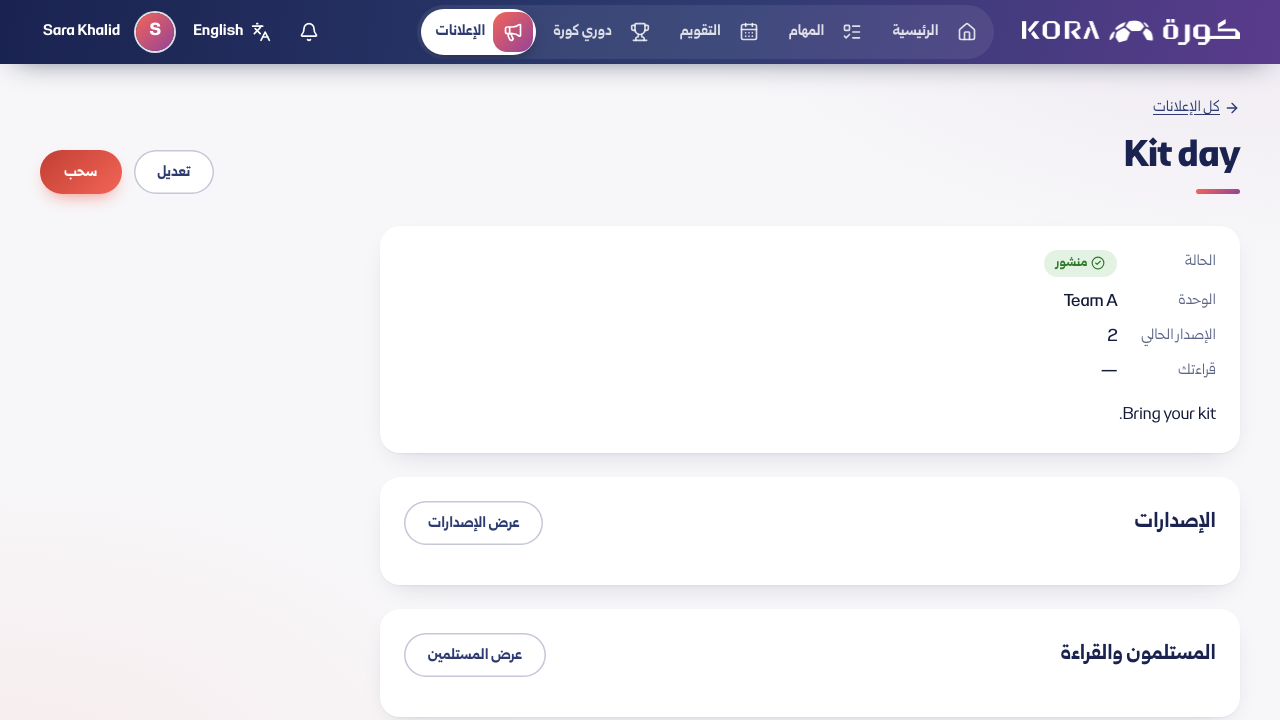
Test case: Announcements UI › loads versions only on request
Click the button "عرض الإصدارات". click: (474, 523)
box: [404,501,544,545]
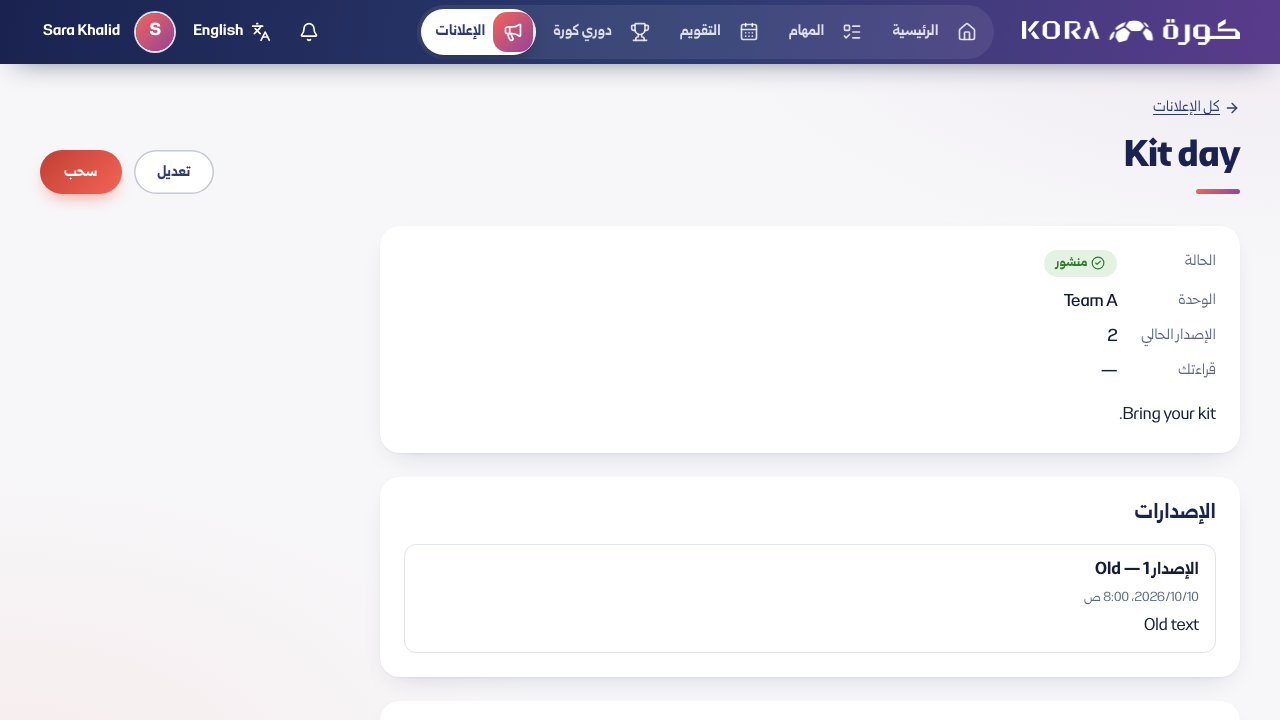
Now the text "Old text" is shown, box [1144,615,1199,638]
